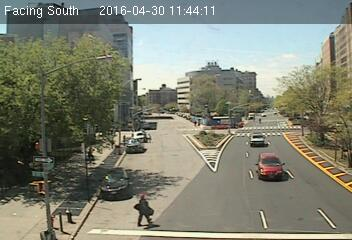neg: (49, 209, 67, 233), (60, 204, 76, 225), (137, 129, 148, 144)
pos: (128, 188, 157, 227), (83, 144, 99, 165), (106, 134, 117, 149)
